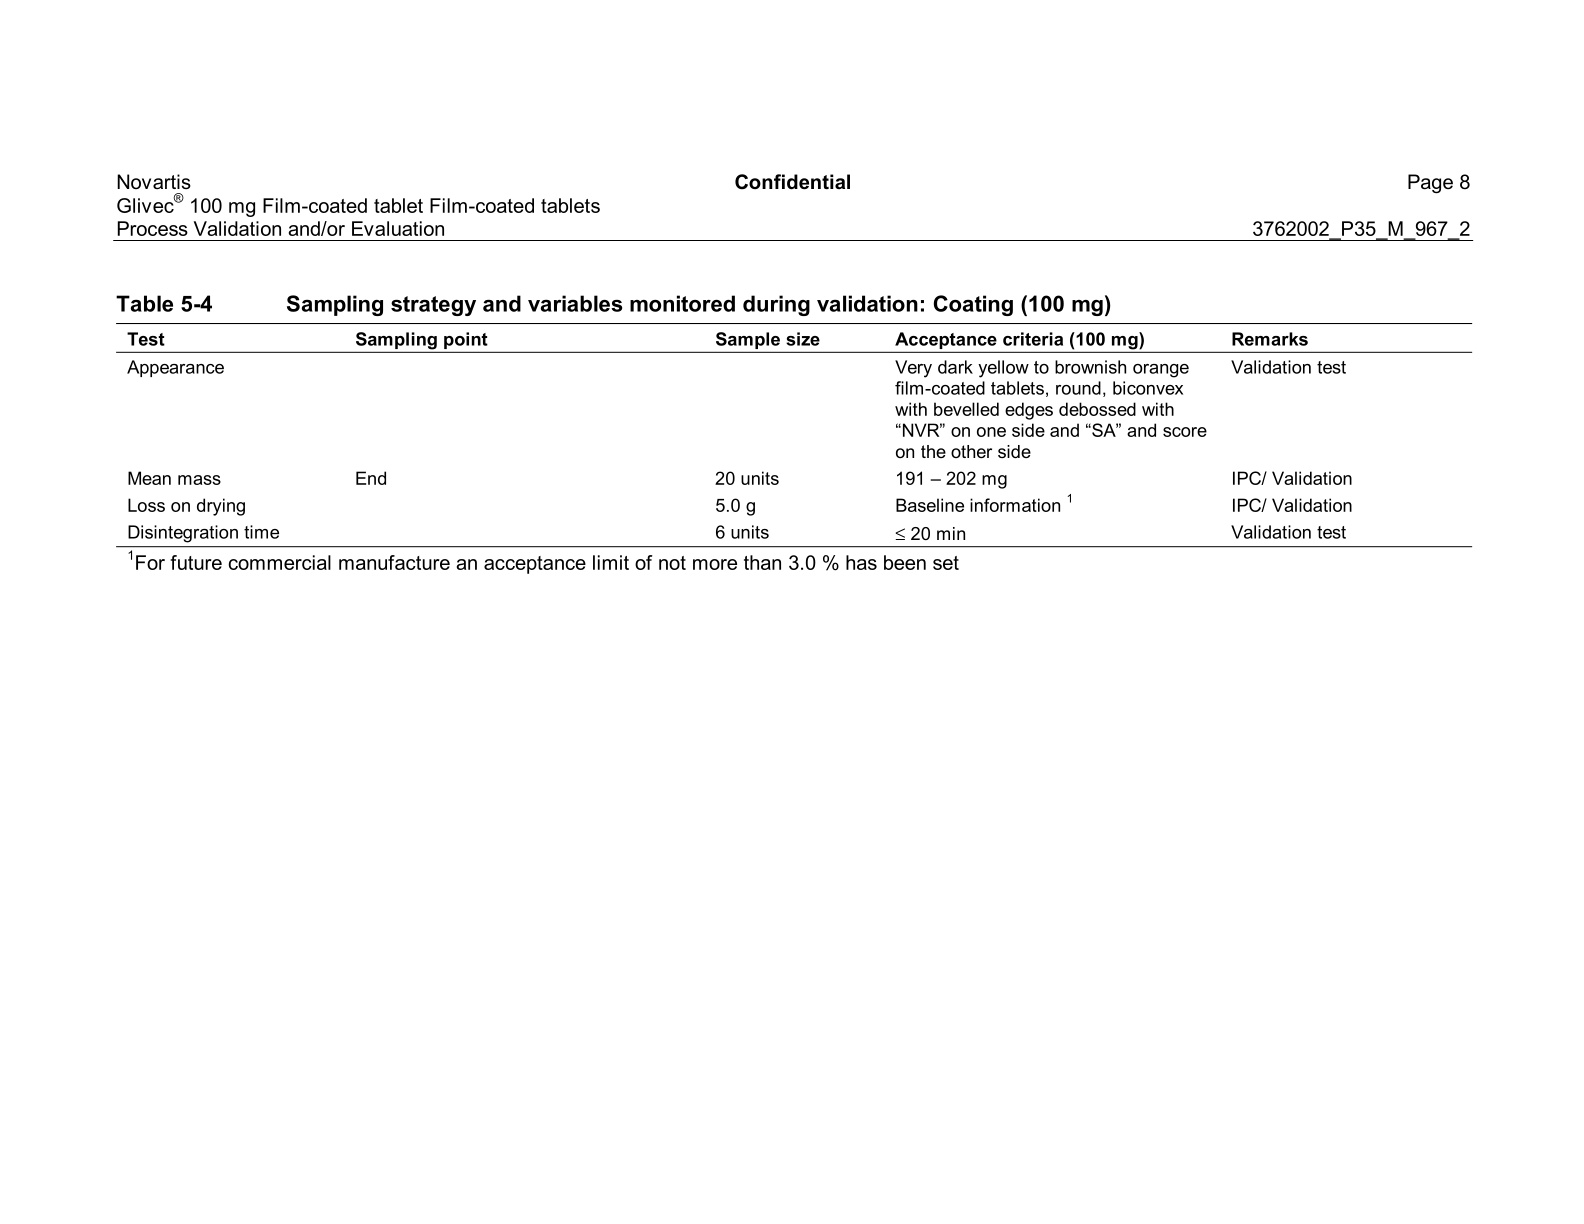partial_lined: (114, 321, 1472, 550)
